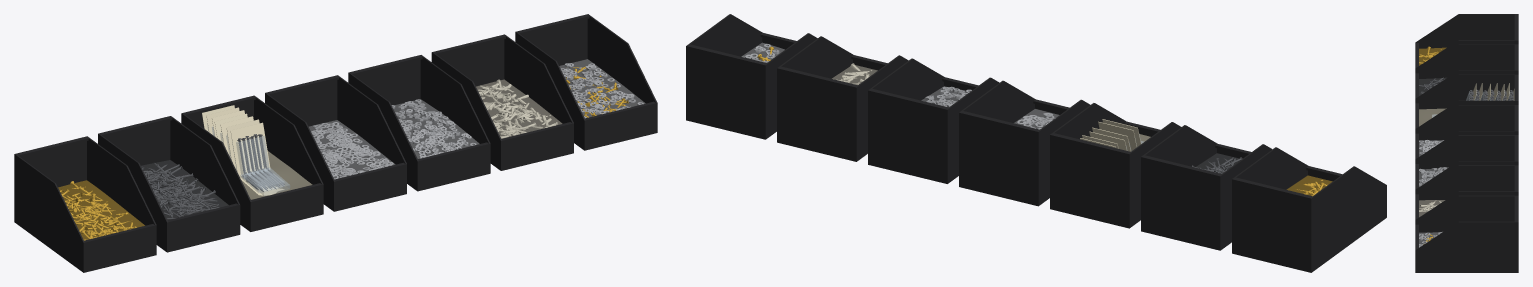
The model's file is todos_os_bins.dae.
3 renders of one model, left to right at view 1: azimuth 30°, elevation 25°; view 2: azimuth 150°, elevation 25°; view 3: azimuth 270°, elevation 25°, orthographic. The views are drawn at different scales.
Parts seen in each view (by area): view 1: Caixa bin (×7), Pacote de pregos (blister) (×6), Monte parafusos, Monte buchas, Monte pregos, Monte ferragens mistas, Monte arruelas, Monte porcas, Monte pacotes de pregos; view 2: Caixa bin (×7); view 3: Caixa bin (×7), Monte pacotes de pregos, Monte parafusos, Monte pregos, Monte buchas, Monte ferragens mistas, Monte arruelas, Monte porcas.
Boxes of the visible parts, left/top/right/bottom form: Caixa bin (×7): left=14, top=14, right=657, bottom=272; Pacote de pregos (blister) (×6): left=230, top=122, right=290, bottom=195; Monte parafusos: left=58, top=180, right=144, bottom=239; Monte buchas: left=476, top=79, right=562, bottom=136; Monte pregos: left=141, top=160, right=228, bottom=220; Monte ferragens mistas: left=559, top=59, right=645, bottom=117; Monte arruelas: left=309, top=120, right=395, bottom=178; Monte porcas: left=393, top=99, right=479, bottom=158; Monte pacotes de pregos: left=241, top=151, right=312, bottom=199; Caixa bin (×7): left=686, top=14, right=1386, bottom=272; Caixa bin (×7): left=1415, top=14, right=1518, bottom=272; Monte pacotes de pregos: left=1419, top=108, right=1446, bottom=126; Monte parafusos: left=1419, top=47, right=1446, bottom=65; Monte pregos: left=1419, top=77, right=1446, bottom=95; Monte buchas: left=1419, top=200, right=1445, bottom=217; Monte ferragens mistas: left=1419, top=231, right=1442, bottom=245; Monte arruelas: left=1419, top=140, right=1444, bottom=156; Monte porcas: left=1419, top=167, right=1448, bottom=186.
Size of the model in its own units: 1100 by 230 by 125.
